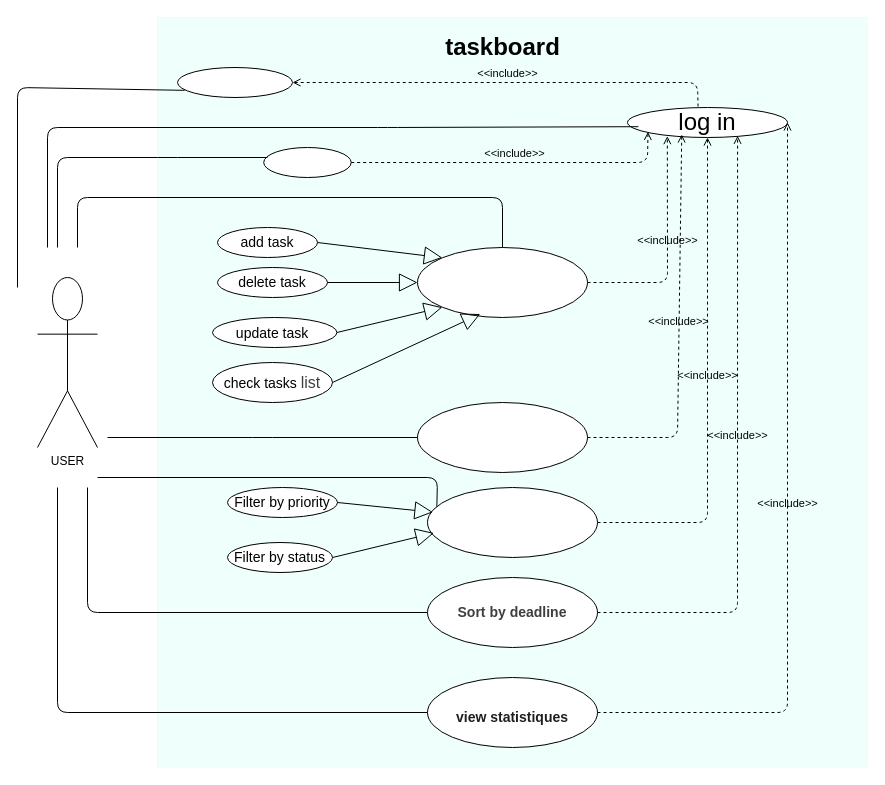
Image size: 885x785. Some labels were removed from this diagram. Here are the shapes that lost their labels. From the top down, the box of each, then its label:
(176, 66, 292, 98): register
(263, 146, 351, 178): log out
(416, 246, 588, 318): manage tasks
(416, 402, 588, 472): Search for a task
(426, 486, 598, 558): Filter
